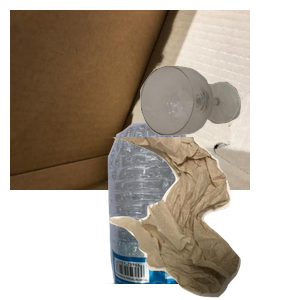cardboard: (10, 10, 250, 190)
glass: (138, 63, 300, 191)
plastic: (96, 120, 285, 300)
trash: (103, 137, 300, 300)
